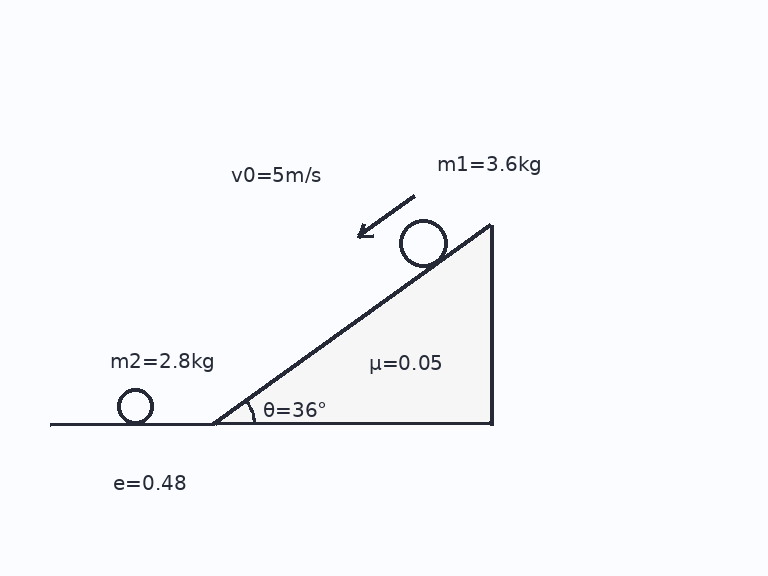ball: (397, 217, 449, 269), (115, 386, 155, 426)
ramp: (212, 221, 493, 426)
